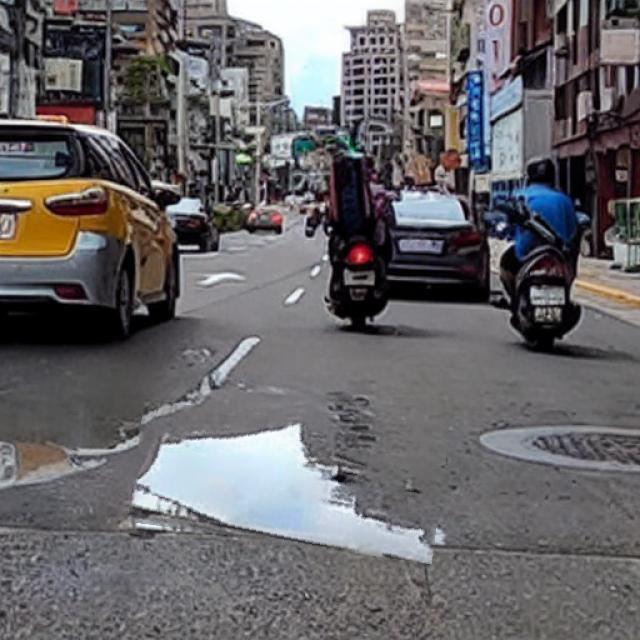puddle: (132, 411, 446, 555)
